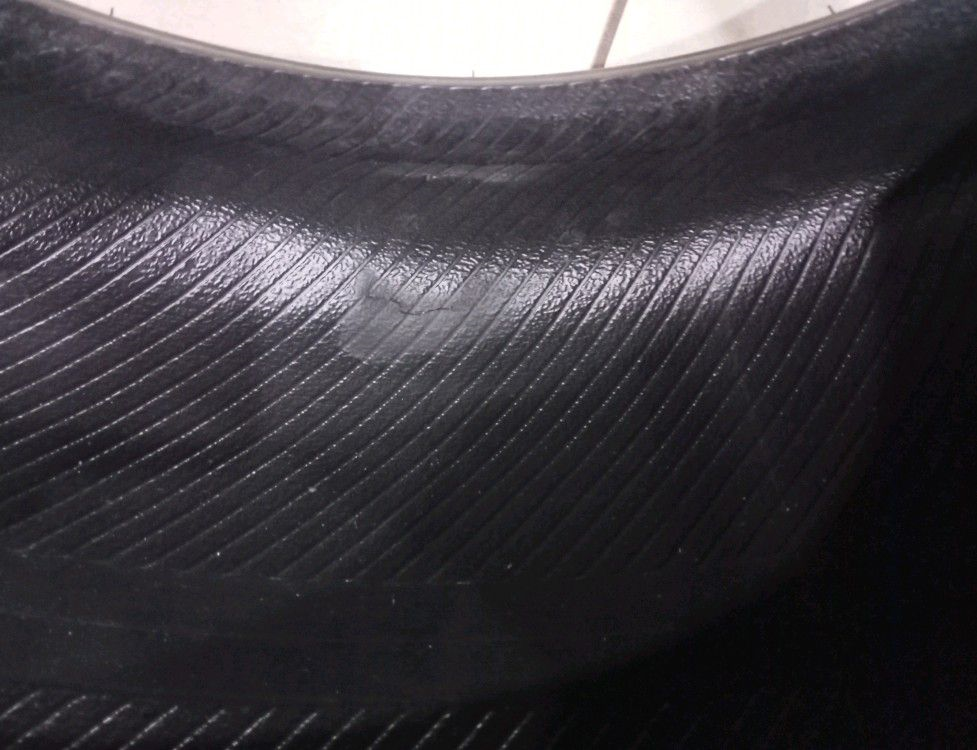CBU: (341, 276, 484, 361)
